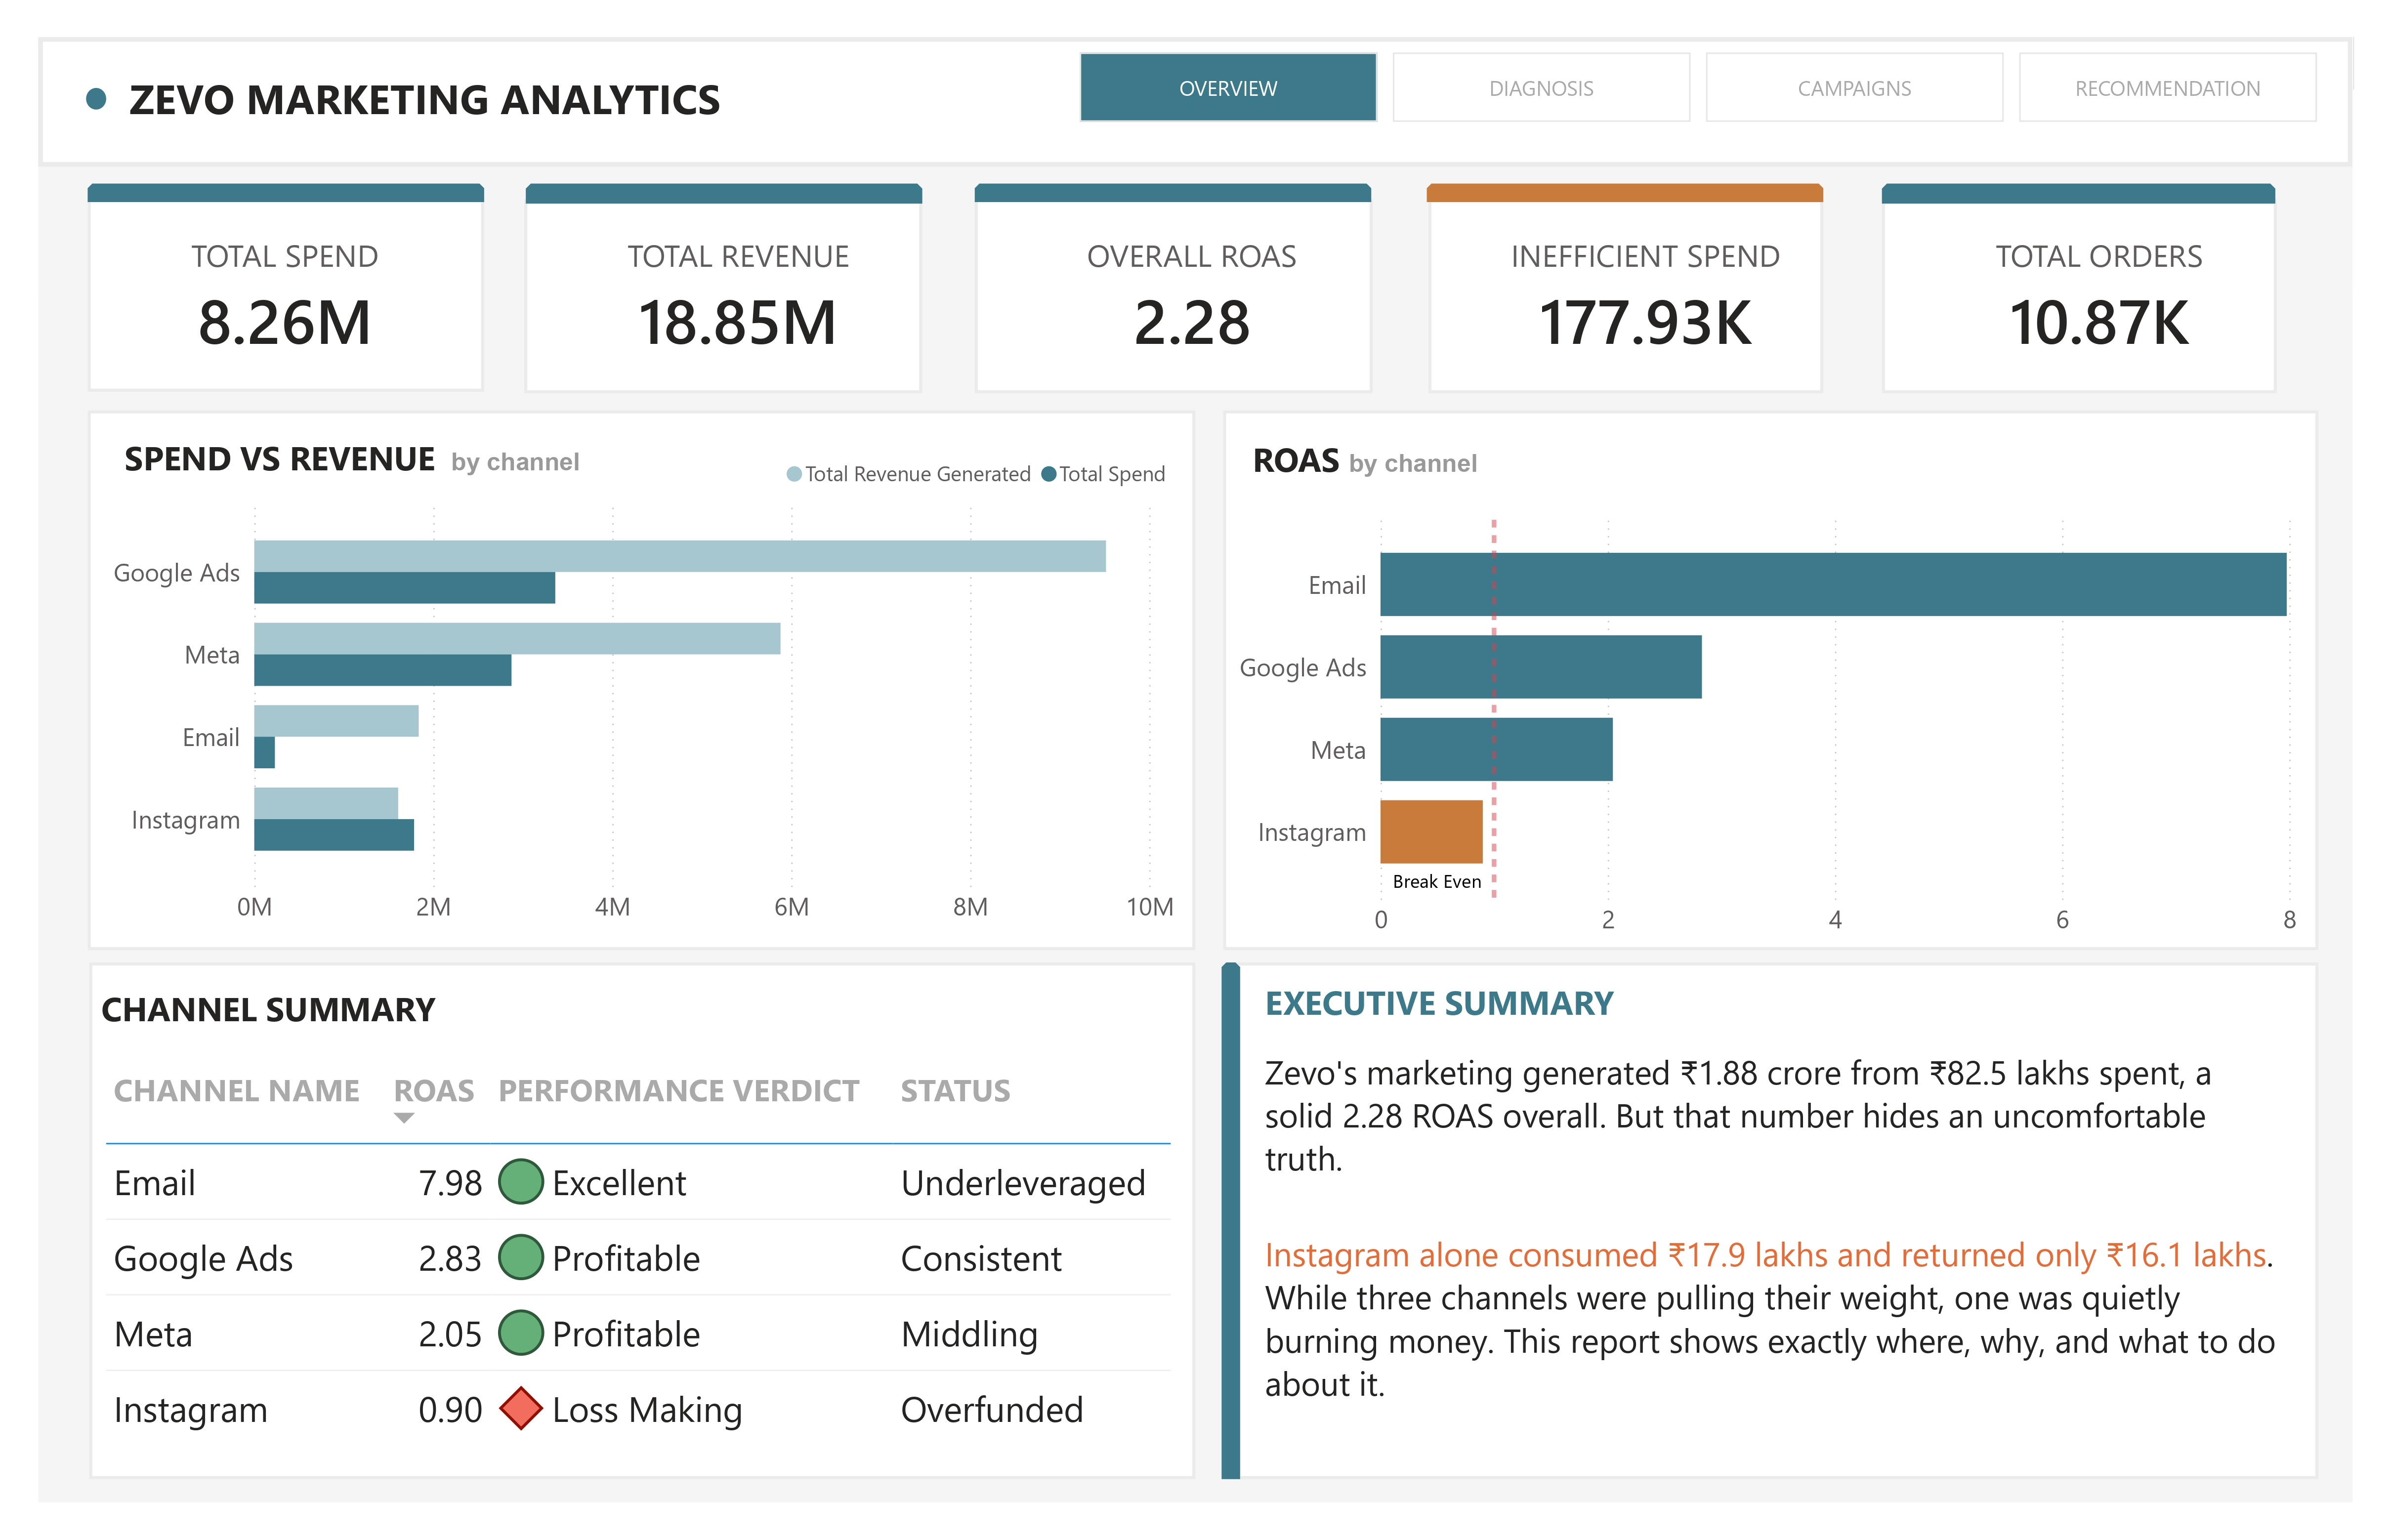

What the dashboard file says about the page in this screenshot:
{"tool":"powerbi","page":{"name":"OVERVIEW","canvas":[1500,950],"ordinal":0},"visuals":[{"type":"shape","title":"Canvas BG","box":[0,0,1500,950],"z":0},{"type":"shape","title":"Title BAR","box":[0,0,1500,84],"z":0,"group":"g3"},{"type":"shape","box":[31.6,95.5,257.4,12.3],"z":0,"group":"g2"},{"type":"shape","box":[31.7,105.5,257.1,124.9],"z":0,"group":"g1"},{"type":"textbox","title":"Zevo title","box":[54,16,434,54],"z":1000,"group":"g3"},{"type":"group","id":"g1","title":"Cards Box","box":[31.6,95.3,1418.5,135.8],"z":1000},{"type":"shape","box":[315.1,95.6,257.2,12.3],"z":1000,"group":"g2"},{"type":"shape","box":[314.4,105,257.9,126.2],"z":1000,"group":"g1"},{"type":"shape","title":"Zevo DOT","box":[30.8,33.3,13.3,13.3],"z":1500,"group":"g3"},{"type":"shape","box":[606.1,95.4,257.7,12.3],"z":2000,"group":"g2"},{"type":"shape","box":[606.4,105,257.9,126.2],"z":2000,"group":"g1"},{"type":"cardVisual","fields":{"Data":["_Measures.Total Spend","_Measures.Total Revenue Generated","_KPI Measures.Overall ROAS","_Measures.Wasted Spend","_KPI Measures.Total Orders"]},"box":[0,116.1,1500,102.8],"z":2000},{"type":"shape","box":[900.3,105,255.9,126.2],"z":3000,"group":"g1"},{"type":"shape","box":[32.2,242.2,717.8,350],"z":3000},{"type":"shape","box":[900,95.3,256.2,12.2],"z":4000,"group":"g2"},{"type":"shape","box":[1194.2,105,255.9,126.2],"z":4000,"group":"g1"},{"type":"shape","title":"ROAS Box","box":[768,242,710,350],"z":4000},{"type":"group","id":"g2","title":"Top Bars","box":[31.6,95.3,1418.4,12.8],"z":5000,"group":"g1"},{"type":"shape","box":[1194.2,95.5,255.8,12.6],"z":5000,"group":"g2"},{"type":"shape","title":"Insight Box","box":[773.1,600,705.4,335.4],"z":5000},{"type":"clusteredBarChart","title":"Spend vs Revenue by channel","fields":{"Y":["_Measures.Total Revenue Generated","_Measures.Total Spend"],"Category":["mart mart_channel_roas.channel_name"]},"box":[37.5,262.5,703.8,322.5],"z":6000},{"type":"barChart","title":"ROAS by channel","fields":{"Y":["_Measures.Overall ROAS"],"Category":["mart mart_channel_roas.channel_name"]},"box":[767.5,300,701.2,292.5],"z":7000},{"type":"shape","title":"Table box","box":[32.5,600,717.5,335],"z":8000},{"type":"tableEx","fields":{"Values":["mart mart_channel_roas.channel_name","Sum(mart mart_channel_roas.roas)","mart mart_channel_roas.performance_verdict","mart mart_channel_roas.Recommendation"]},"box":[38.2,653.6,711.8,270],"z":9000},{"type":"textbox","title":"Insights","box":[790,616.7,668.3,318.3],"z":10000},{"type":"group","id":"g3","title":"Title Works","box":[0,0,1500,84],"z":11000},{"type":"textbox","title":"SPEND text","box":[51.1,253.3,416.7,46.7],"z":12000},{"type":"textbox","title":"ROAS Text","box":[782,254,340,82],"z":13000},{"type":"textbox","title":"Insight Title","box":[790,605.6,280,57.8],"z":14000},{"type":"shape","title":"Insight Bar","box":[766.7,600.5,12.4,334.8],"z":15000},{"type":"textbox","box":[36,610,260,54],"z":16000},{"type":"pageNavigator","box":[675,10,805,45],"z":17000}]}

Visuals, with their boxes on the page's 1500x950 design canvas (x1, y1, x2, y2). These are canvas units, not pixel positions in the 2391x1540 screenshot, which may show the page scaled, cropped or inside an application window:
"Canvas BG" shape: select_region(0, 0, 1500, 950)
"Title BAR" shape: select_region(0, 0, 1500, 84)
shape: select_region(32, 96, 289, 108)
shape: select_region(32, 106, 289, 230)
"Zevo title" textbox: select_region(54, 16, 488, 70)
"Cards Box" group: select_region(32, 95, 1450, 231)
shape: select_region(315, 96, 572, 108)
shape: select_region(314, 105, 572, 231)
"Zevo DOT" shape: select_region(31, 33, 44, 47)
shape: select_region(606, 95, 864, 108)
shape: select_region(606, 105, 864, 231)
cardVisual - _Measures.Total Spend x _Measures.Total Revenue Generated: select_region(0, 116, 1500, 219)
shape: select_region(900, 105, 1156, 231)
shape: select_region(32, 242, 750, 592)
shape: select_region(900, 95, 1156, 108)
shape: select_region(1194, 105, 1450, 231)
"ROAS Box" shape: select_region(768, 242, 1478, 592)
"Top Bars" group: select_region(32, 95, 1450, 108)
shape: select_region(1194, 96, 1450, 108)
"Insight Box" shape: select_region(773, 600, 1478, 935)
"Spend vs Revenue by channel" clusteredBarChart: select_region(38, 262, 741, 585)
"ROAS by channel" barChart: select_region(768, 300, 1469, 592)
"Table box" shape: select_region(32, 600, 750, 935)
tableEx - mart mart_channel_roas.channel_name x Sum(mart mart_channel_roas.roas): select_region(38, 654, 750, 924)
"Insights" textbox: select_region(790, 617, 1458, 935)
"Title Works" group: select_region(0, 0, 1500, 84)
"SPEND text" textbox: select_region(51, 253, 468, 300)
"ROAS Text" textbox: select_region(782, 254, 1122, 336)
"Insight Title" textbox: select_region(790, 606, 1070, 663)
"Insight Bar" shape: select_region(767, 600, 779, 935)
textbox: select_region(36, 610, 296, 664)
pageNavigator: select_region(675, 10, 1480, 55)
